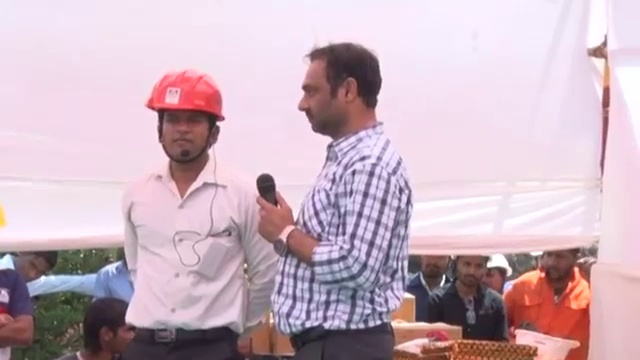helmet: (512, 327, 581, 359)
helmet_off: (298, 40, 385, 139), (79, 300, 139, 358), (12, 248, 60, 286), (540, 248, 578, 283), (455, 253, 488, 293), (418, 254, 449, 285)
helmet_on: (146, 72, 226, 179), (483, 255, 513, 294)
person: (250, 37, 414, 360), (118, 66, 282, 360), (504, 247, 591, 351), (0, 240, 58, 360), (427, 254, 509, 338), (404, 251, 455, 321)
